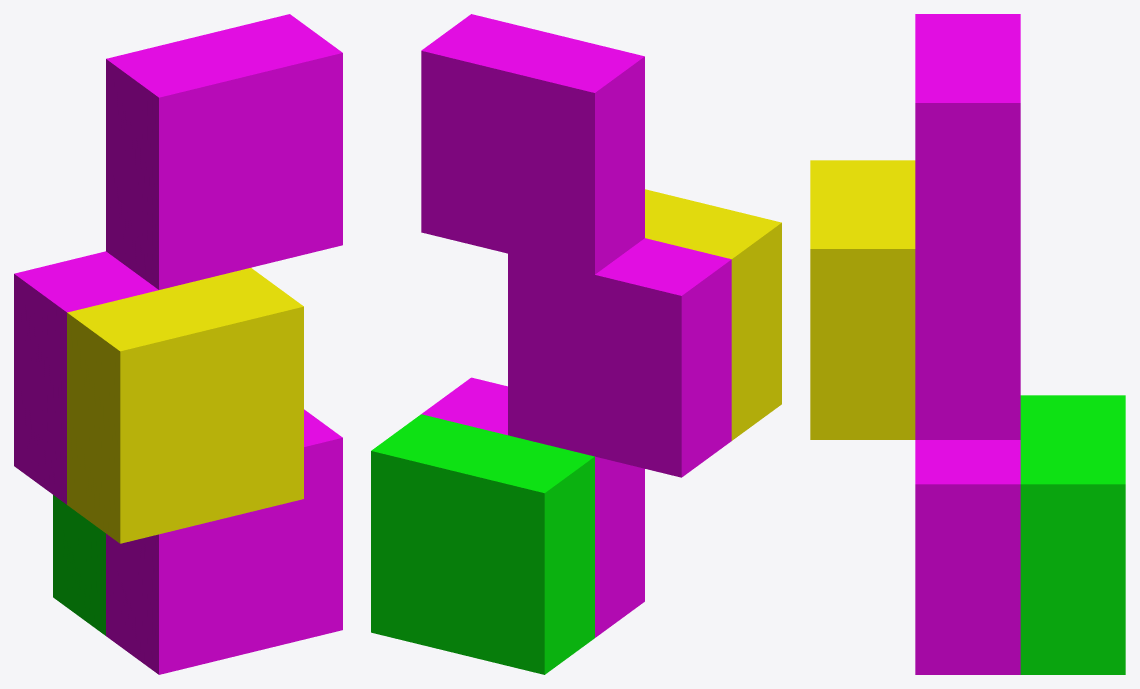
3 views of the same model, side by side, from view 1: azimuth 30°, elevation 25°; view 2: azimuth 150°, elevation 25°; view 3: azimuth 270°, elevation 25° (orthographic). The views are drawn at different scales.
Parts seen in each view (by area): view 1: Cube_22, Cube_6, Cube_0, Cube_4, Cube_20, Cube_23, Cube_7, Cube_18, Cube_1, Cube_21, Cube_5, Cube_3 (+3 smaller); view 2: Cube_22, Cube_18, Cube_14, Cube_16, Cube_12, Cube_20, Cube_23, Cube_15, Cube_6, Cube_17, Cube_19, Cube_21 (+6 smaller); view 3: Cube_23, Cube_7, Cube_3, Cube_15, Cube_1, Cube_17, Cube_21, Cube_5, Cube_13, Cube_19, Cube_22, Cube_6 (+1 smaller).
Part boxes in pixels (x1,y1,x2,y2): Cube_22: [106, 36, 250, 193]; Cube_6: [67, 290, 211, 447]; Cube_0: [106, 540, 250, 674]; Cube_4: [67, 409, 211, 543]; Cube_20: [106, 155, 250, 289]; Cube_23: [198, 14, 342, 171]; Cube_7: [159, 268, 303, 424]; Cube_18: [14, 251, 158, 408]; Cube_1: [251, 534, 342, 652]; Cube_21: [251, 149, 342, 267]; Cube_5: [212, 403, 303, 521]; Cube_3: [251, 409, 342, 556]; Cube_22: [508, 35, 644, 183]; Cube_18: [595, 238, 731, 386]; Cube_14: [458, 435, 594, 583]; Cube_16: [595, 350, 731, 477]; Cube_12: [458, 547, 594, 674]; Cube_20: [508, 147, 644, 274]; Cube_23: [421, 14, 557, 162]; Cube_15: [371, 414, 507, 562]; Cube_6: [645, 201, 781, 349]; Cube_17: [508, 344, 594, 456]; Cube_19: [508, 253, 594, 365]; Cube_21: [421, 141, 507, 253]; Cube_23: [915, 58, 1020, 198]; Cube_7: [810, 204, 915, 344]; Cube_3: [915, 440, 1020, 579]; Cube_15: [1020, 440, 1125, 579]; Cube_1: [915, 579, 1020, 674]; Cube_17: [915, 344, 1020, 439]; Cube_21: [915, 198, 1020, 293]; Cube_5: [810, 344, 915, 439]; Cube_13: [1020, 579, 1125, 674]; Cube_19: [915, 293, 1020, 344]; Cube_22: [915, 14, 1020, 58]; Cube_6: [810, 160, 915, 204].
Size of the model in its own units: 300 by 600 by 300.
